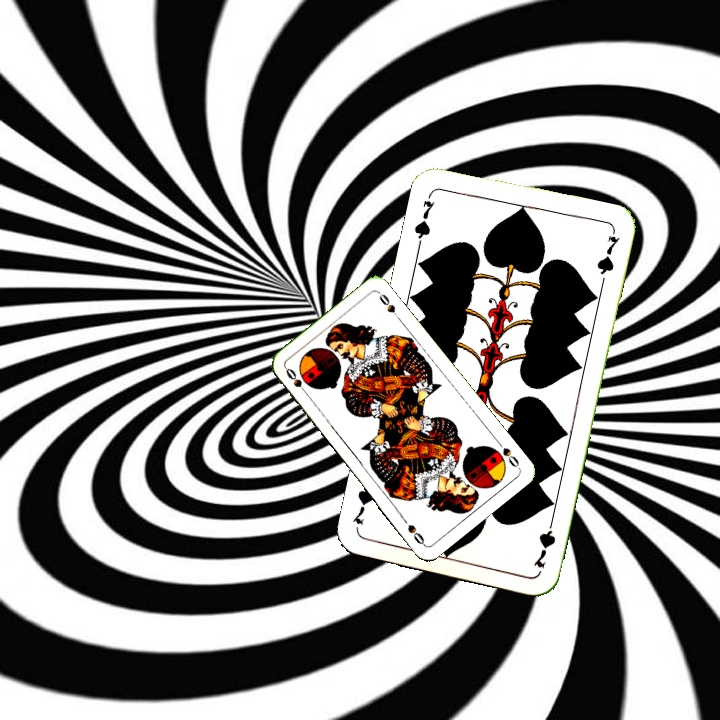G7: (529, 512, 558, 571), (410, 189, 438, 248)
SO: (281, 364, 311, 399), (493, 436, 522, 471)
